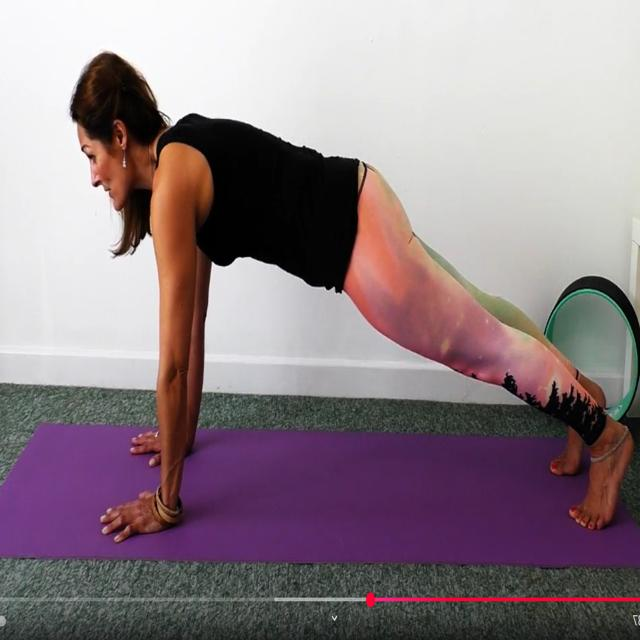Plank_Pose: (60, 43, 640, 556)
